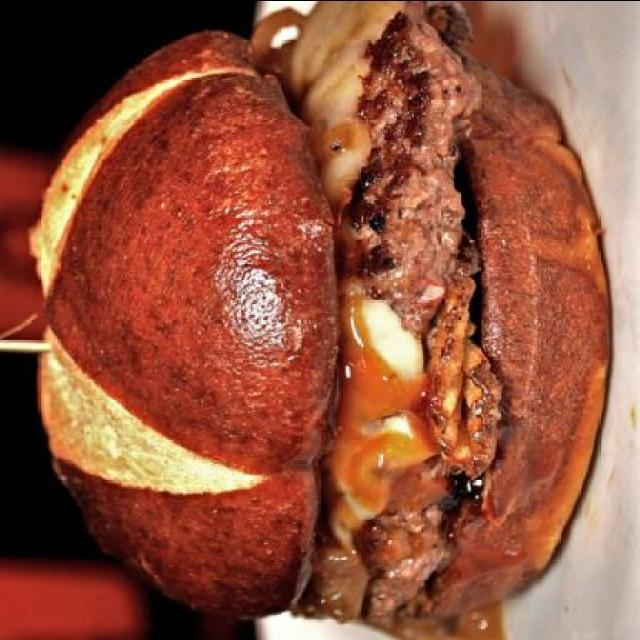Hamburger: (27, 2, 615, 640)
